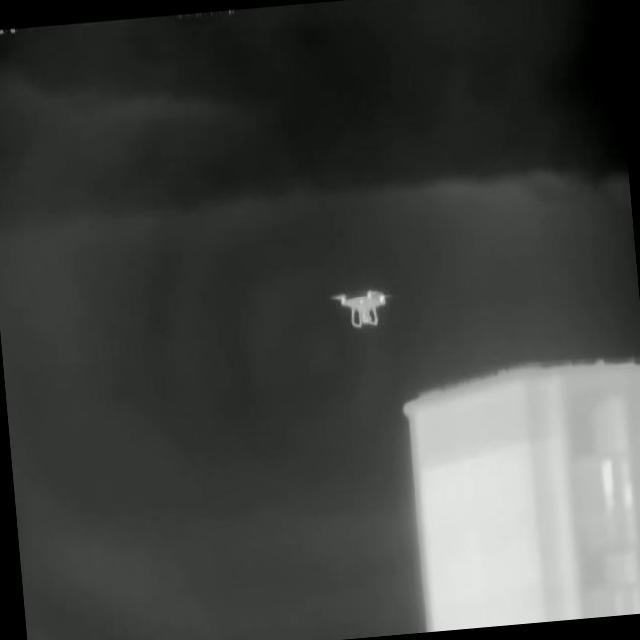DRONE: (328, 286, 404, 330)
